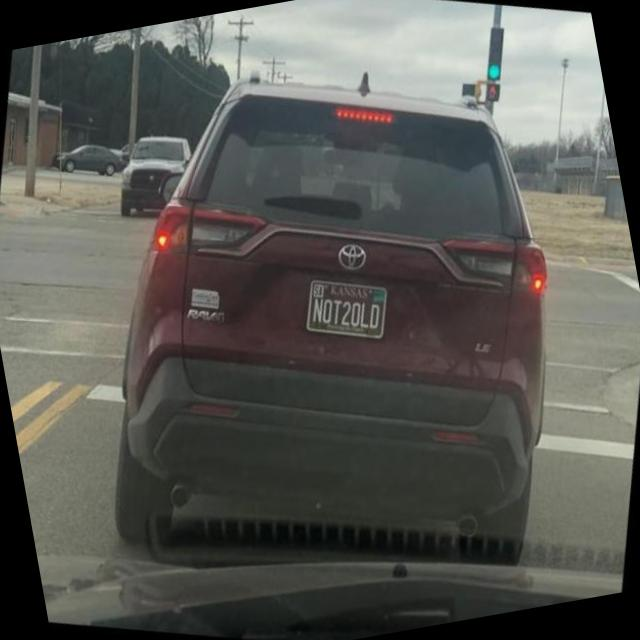LicensePlate: (304, 278, 386, 337)
